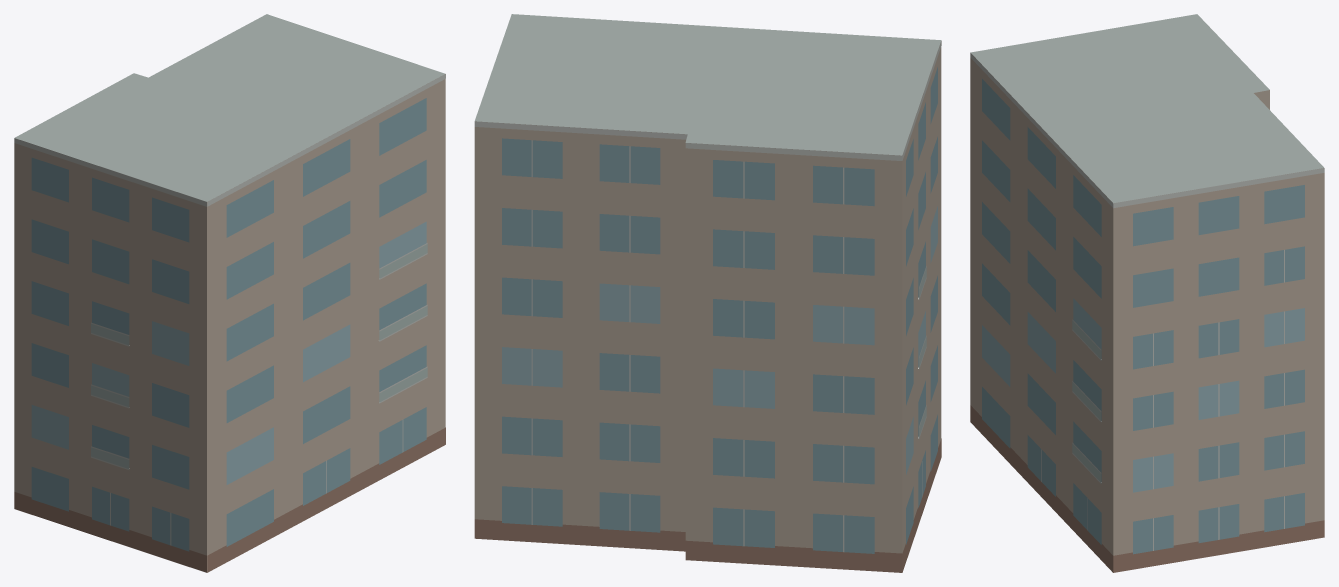
Rendered from survey-upis-32850731.glb.
The picture shows the model from 3 angles, left to right: view 1: azimuth 30°, elevation 25°; view 2: azimuth 150°, elevation 25°; view 3: azimuth 270°, elevation 25°; orthographic projection. The views are drawn at different scales.
Parts seen in each view (by area): view 1: survey-upis-32850731.tmp; view 2: survey-upis-32850731.tmp; view 3: survey-upis-32850731.tmp.
Boxes of the visible parts, box(x1,y1,x2,y2) form: survey-upis-32850731.tmp: box(14, 14, 445, 572); survey-upis-32850731.tmp: box(474, 14, 941, 572); survey-upis-32850731.tmp: box(970, 14, 1324, 572).
Bounding box in the file's own units: 20.11 × 18.3 × 15.9.
